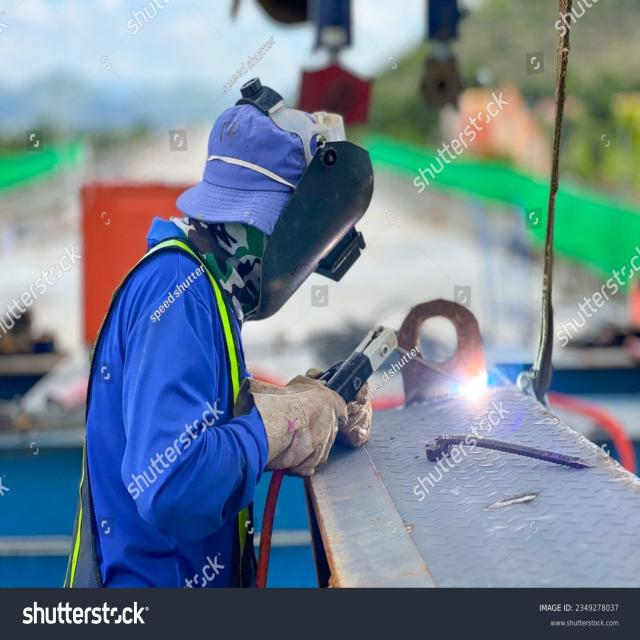gloves: (266, 371, 367, 448), (266, 394, 340, 474)
